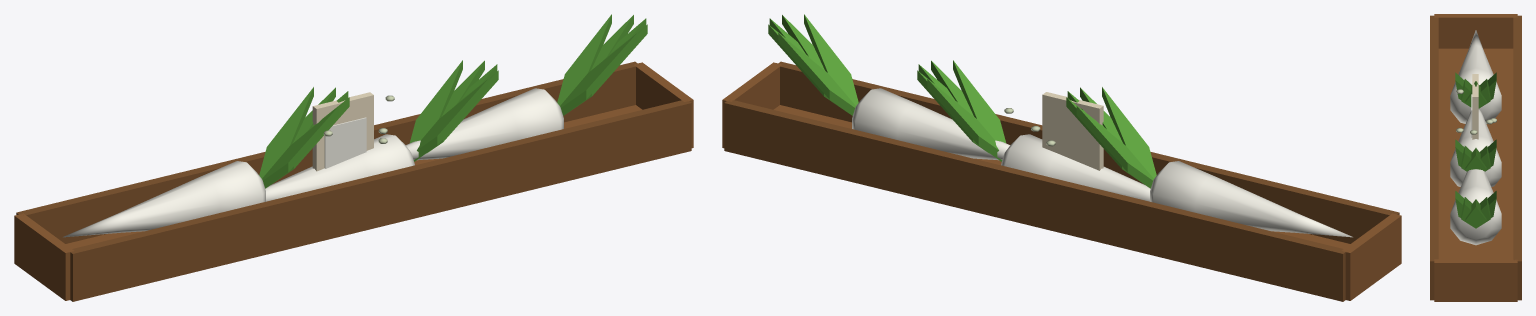
File: Veg_Radish.fbx
3 renders of one model, left to right at view 1: azimuth 30°, elevation 25°; view 2: azimuth 150°, elevation 25°; view 3: azimuth 270°, elevation 25°, orthographic. The views are drawn at different scales.
Visible parts, largest first — view 1: Veg_Radish__Stack, Veg_Radish, Veg_Radish__Seed; view 2: Veg_Radish__Stack, Veg_Radish, Veg_Radish__Seed; view 3: Veg_Radish__Stack, Veg_Radish, Veg_Radish__Seed, Veg_Radish__Rotten.
Boxes of the visible parts, x1,y1,x2,y2 form: Veg_Radish__Stack: (14,14,693,301); Veg_Radish: (265,60,498,201); Veg_Radish__Seed: (312,92,373,171); Veg_Radish__Stack: (722,14,1401,301); Veg_Radish: (917,60,1150,201); Veg_Radish__Seed: (1042,92,1103,170); Veg_Radish__Stack: (1430,14,1521,301); Veg_Radish: (1450,109,1501,186); Veg_Radish__Seed: (1471,74,1478,139); Veg_Radish__Rotten: (1456,89,1496,134).
Size of the model in its own units: 0.548 by 0.097 by 0.0856.
